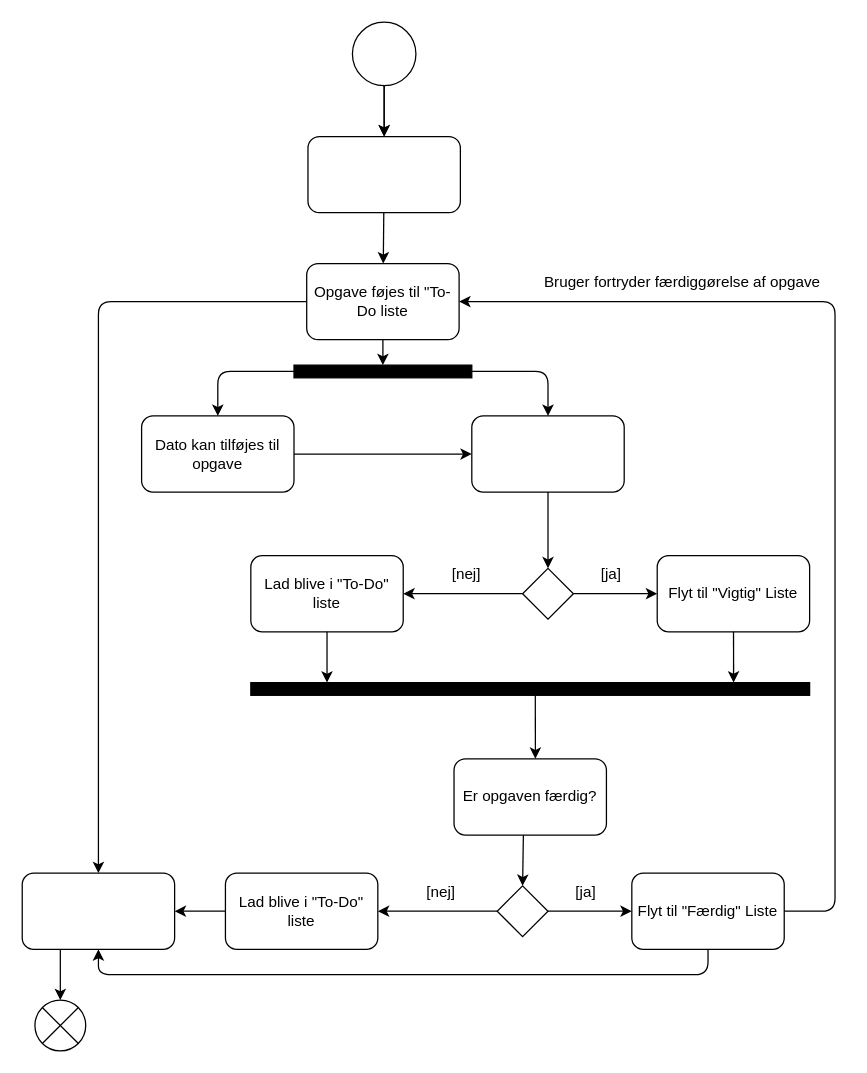
The diagram is 867 pixels wide and 1073 high, and some of its shapes have lost their labels. The shapes that lost their labels are listed below. From the top down, each one's centre as x and y in pixels, then its label:
the point at 383,174: Opgave oprettes
the point at 547,453: Er opgaven vigtig?
the point at 98,910: Bruger sletter opgave
